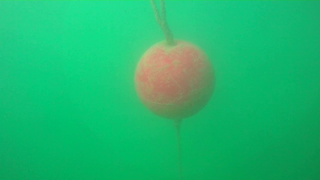buoy: (133, 38, 215, 119)
